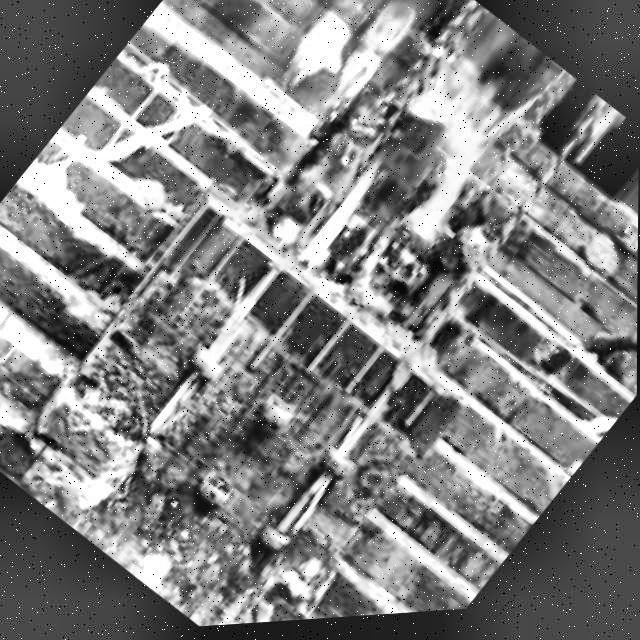Fire: (372, 72, 542, 260), (280, 145, 413, 292)
